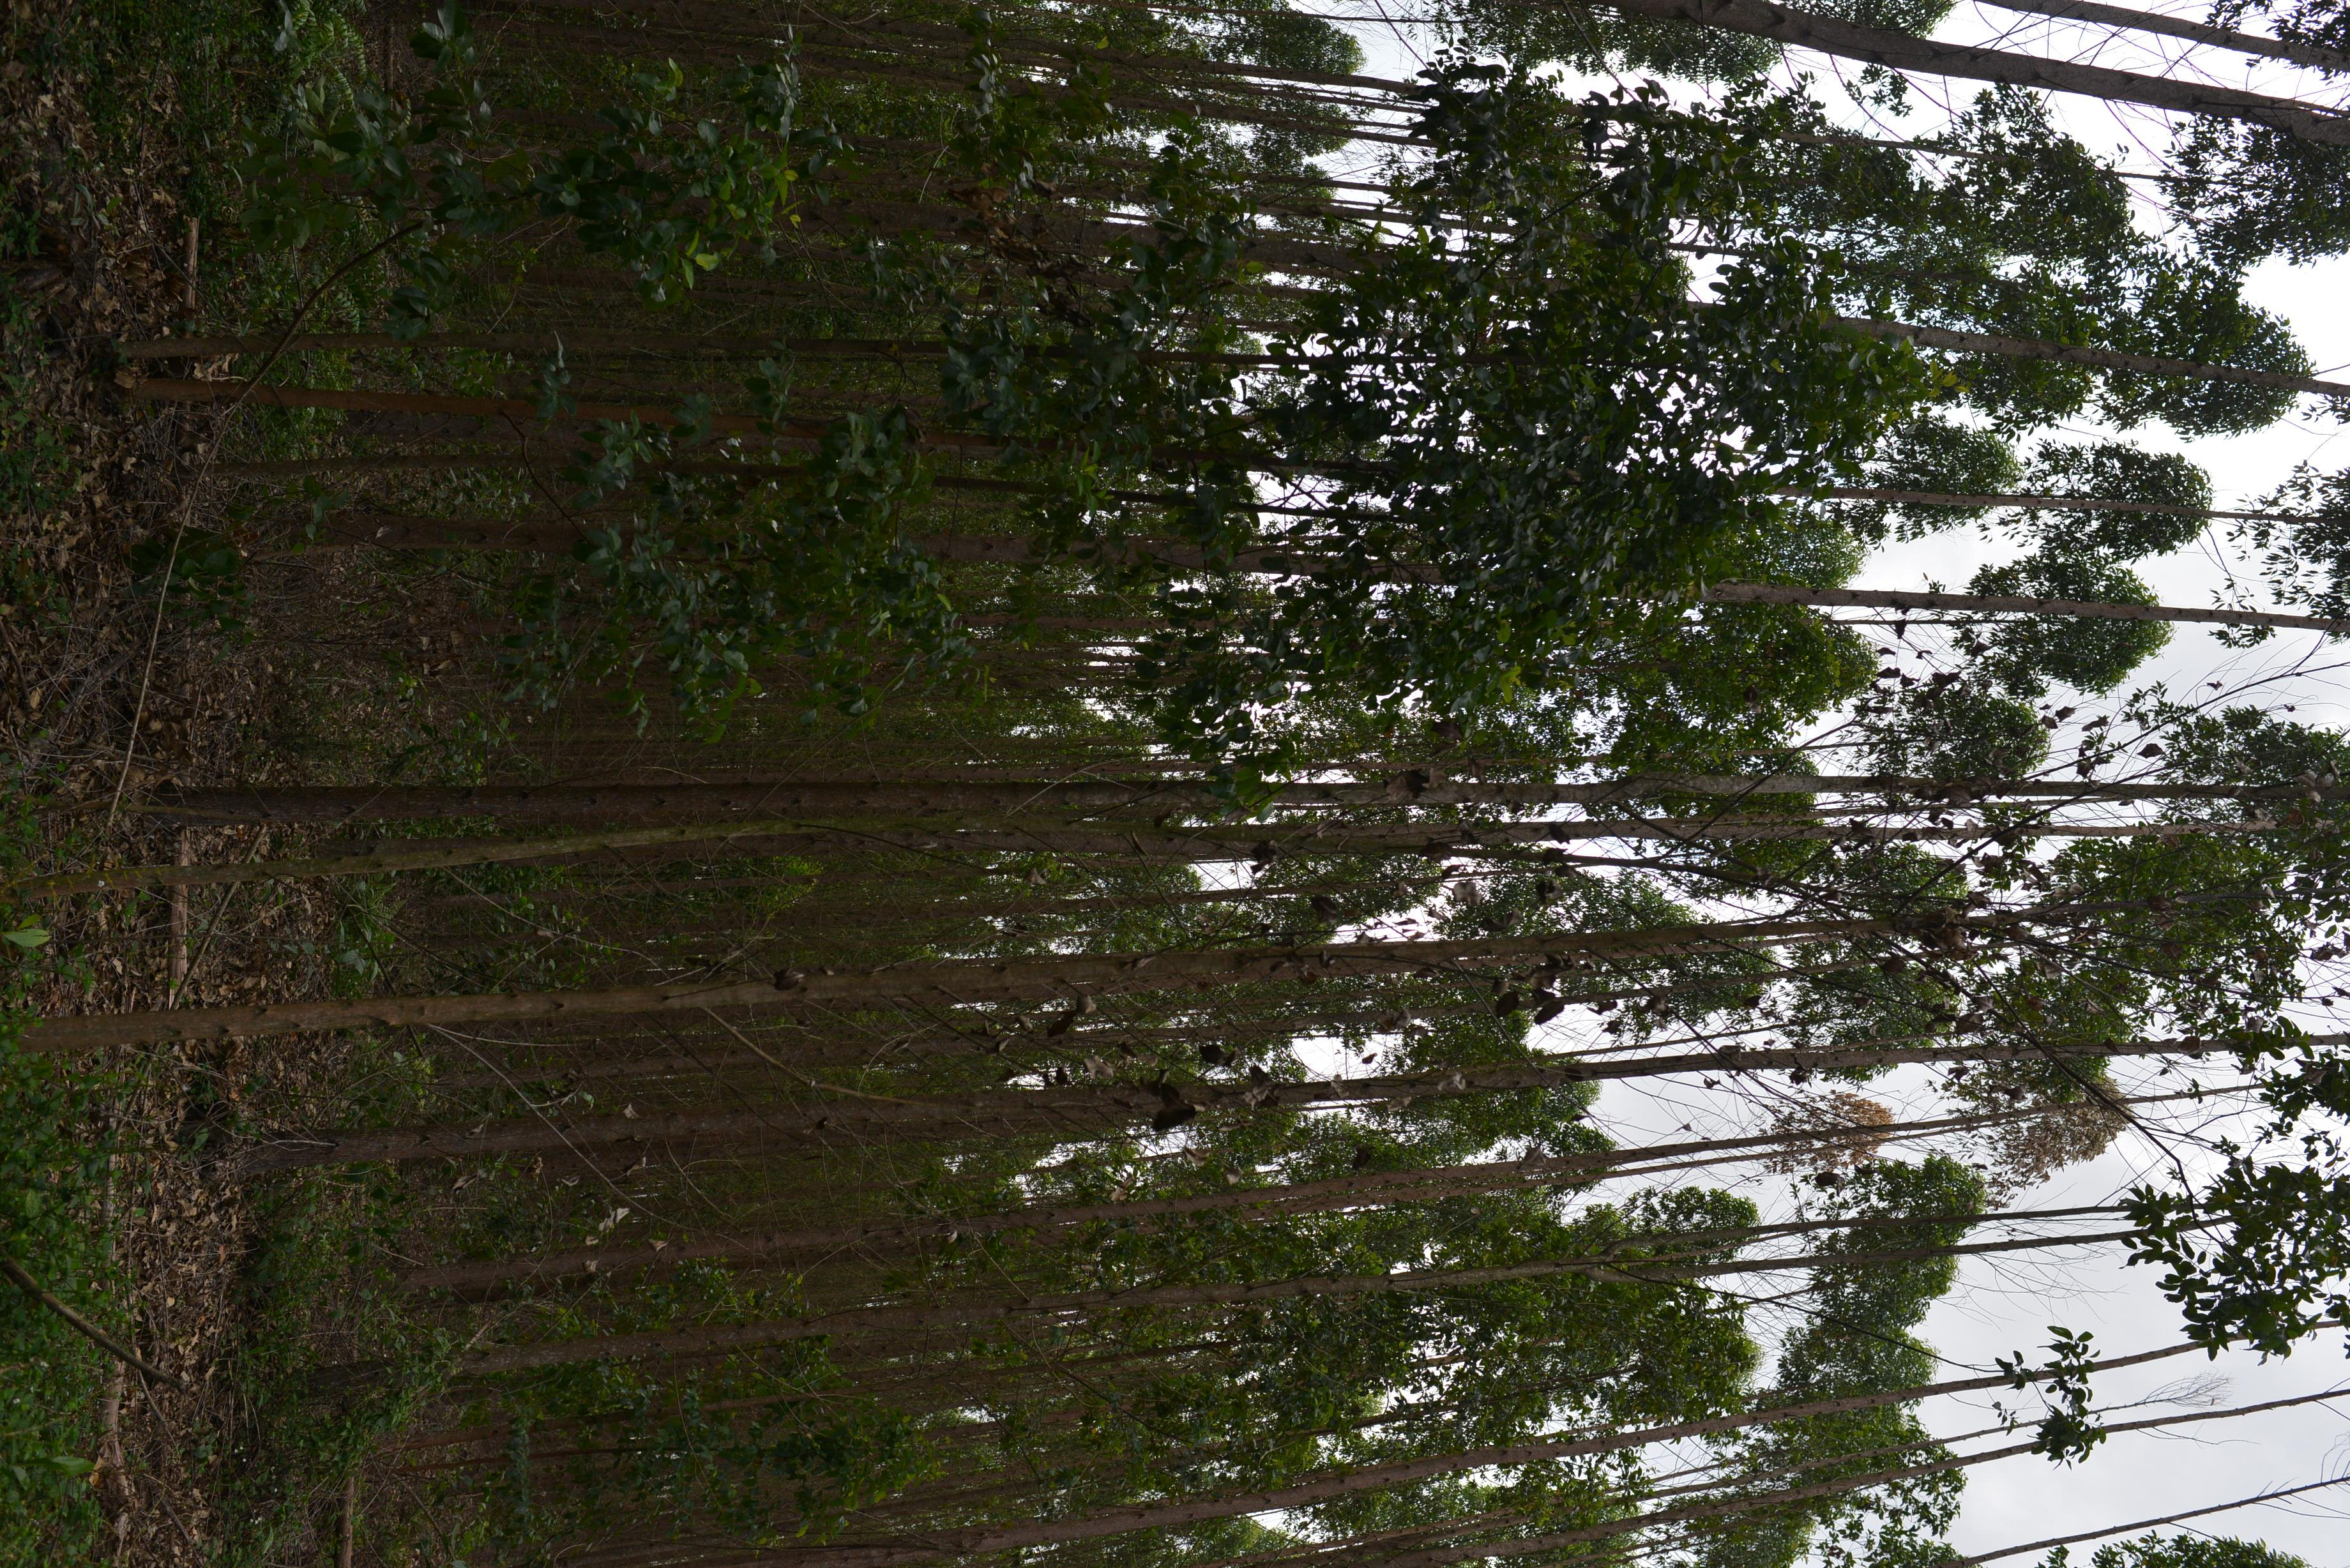Wither Tree Parts: (1986, 1036, 2128, 1176), (1748, 1053, 1893, 1185)
